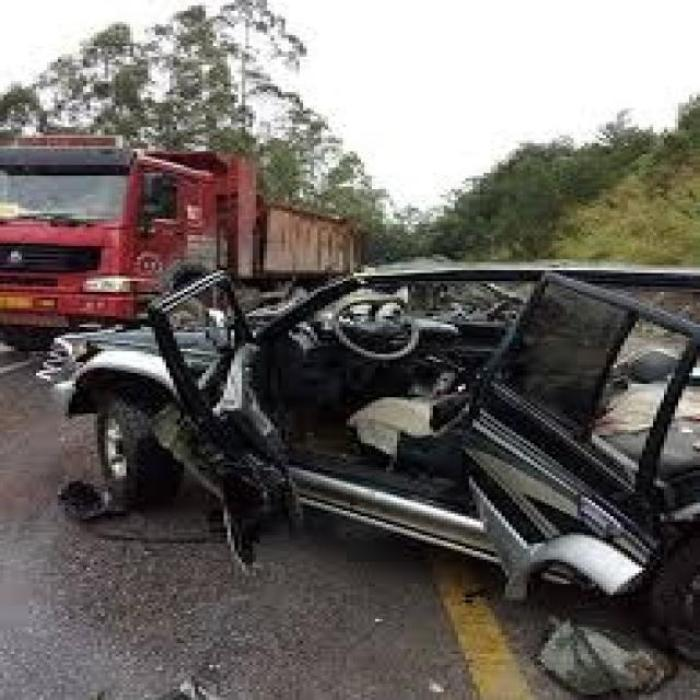Accident: (31, 247, 700, 651)
